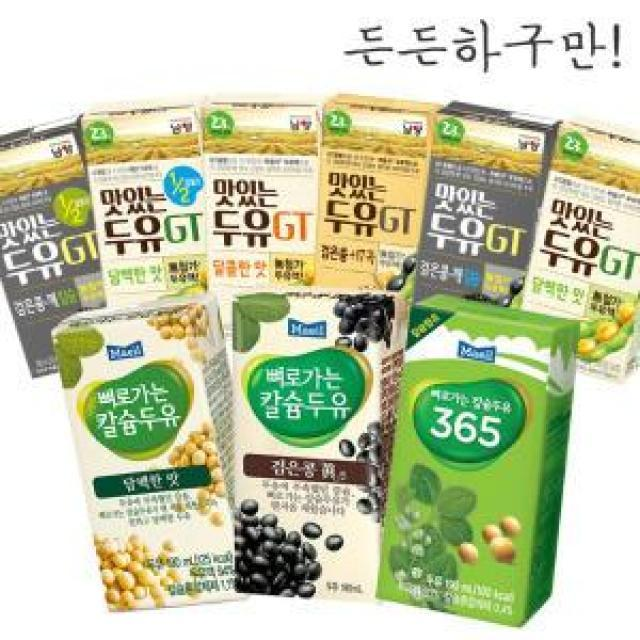Tetra: (380, 290, 578, 636), (48, 294, 234, 622), (232, 278, 402, 606), (74, 95, 205, 347), (418, 98, 548, 338), (539, 106, 640, 396), (210, 83, 322, 326), (314, 86, 438, 300)
